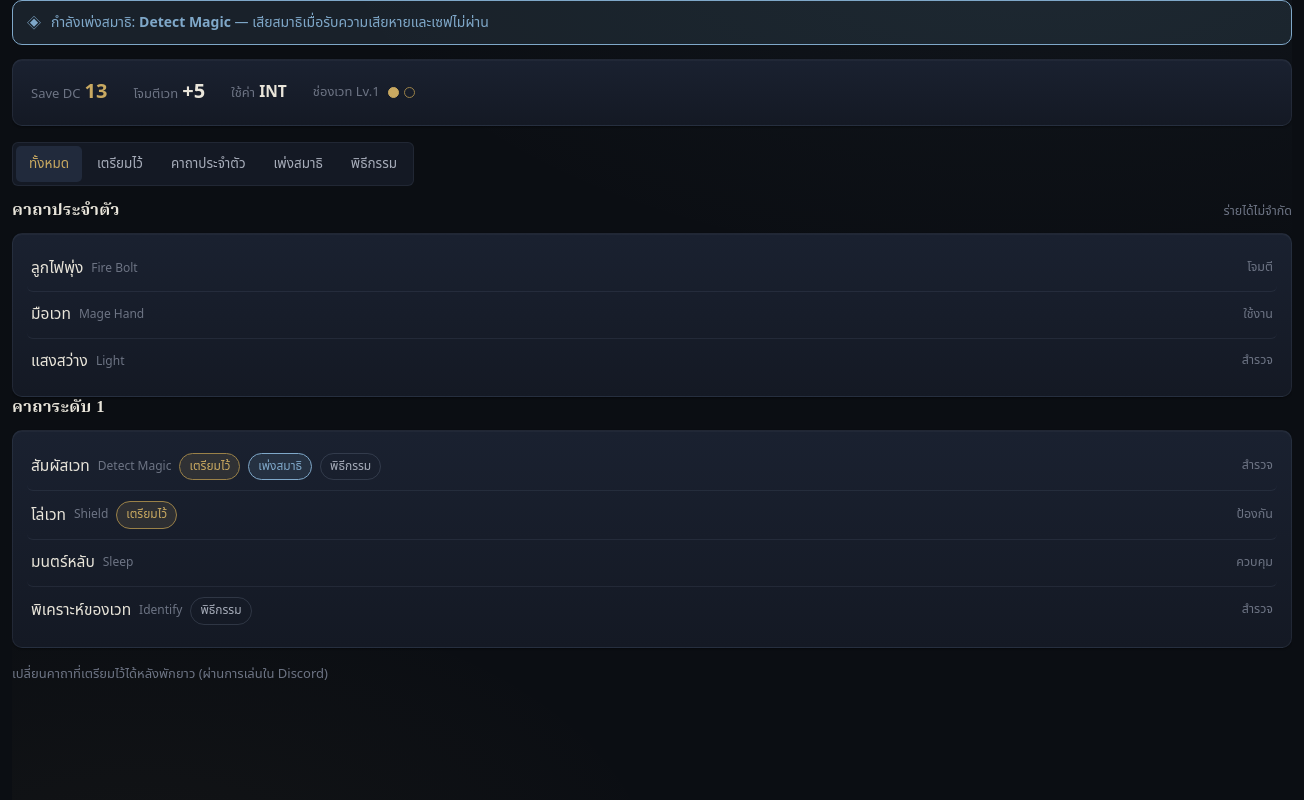
Test: Spellbook › shows concentration banner, slots, and filters prepared
Expected: the text "กำลังเพ่งสมาธิ" shows "Detect Magic", [139,12,231,33]
Expected: the text "Save DC" is shown, [31,84,80,104]
Step 1. Click the tab "เตรียมไว้" → click(120, 164), box [84,146,156,182]
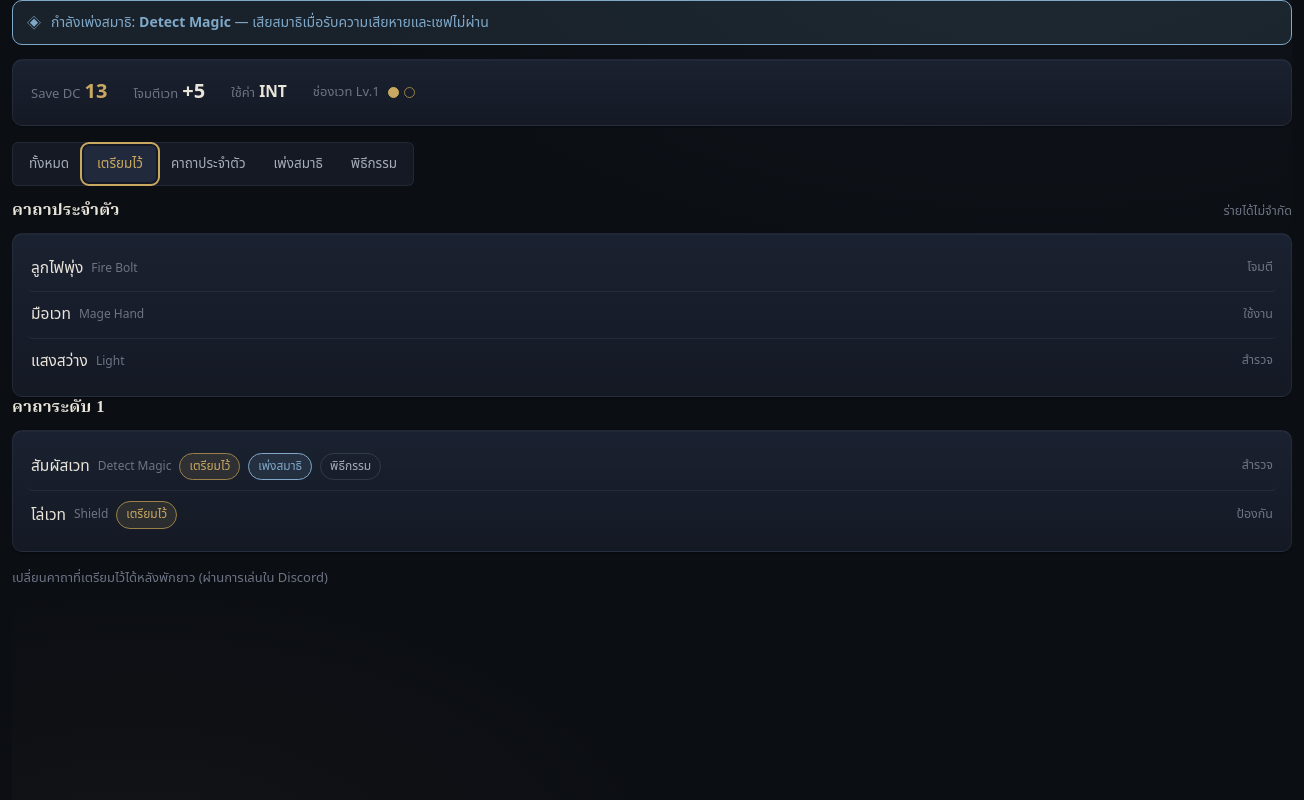
Expected: the text "โล่เวท" is shown, [31,503,66,528]
Result: the button "มนตร์หลับ" is gone
